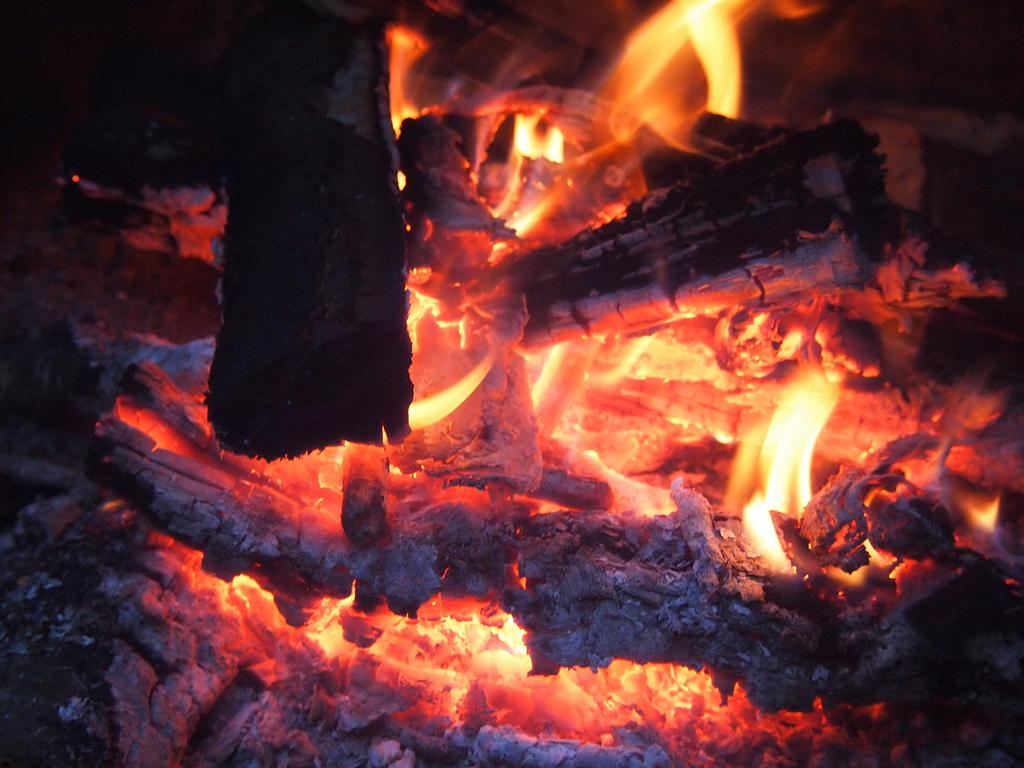fire: (400, 606, 554, 730), (620, 4, 768, 102), (748, 370, 830, 526)
